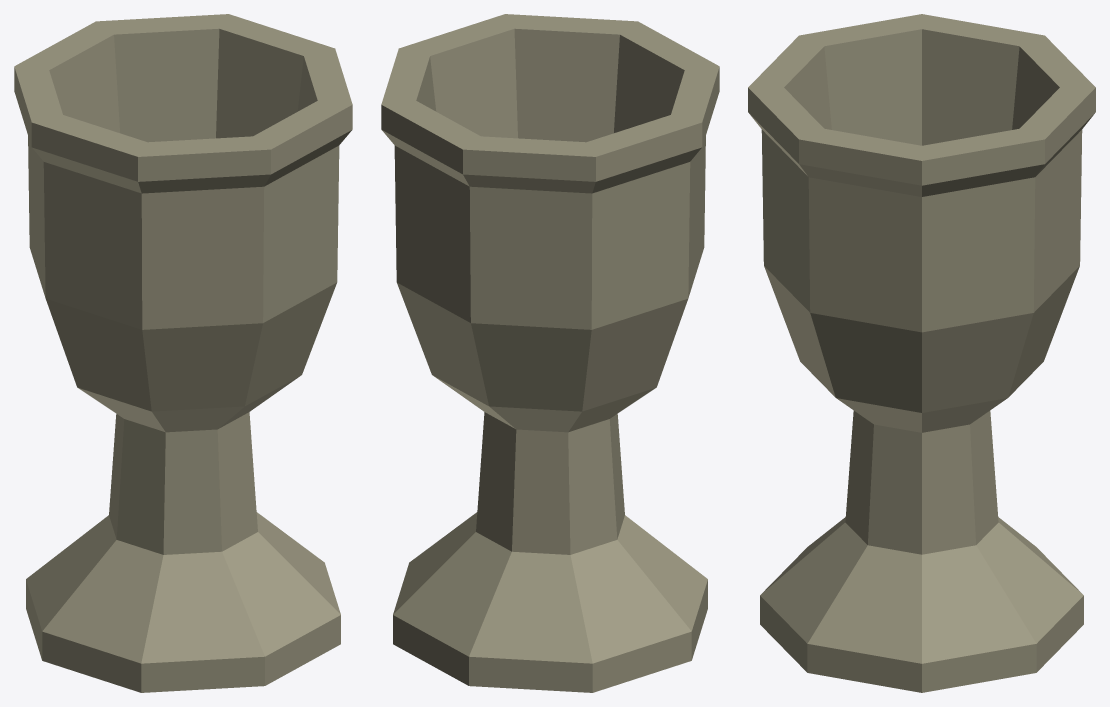
The model's file is Cup_1.fbx.
3 renders of one model, left to right at view 1: azimuth 30°, elevation 25°; view 2: azimuth 150°, elevation 25°; view 3: azimuth 270°, elevation 25°, orthographic.
Visible parts, largest first — view 1: Cup_1; view 2: Cup_1; view 3: Cup_1.
Boxes of the visible parts, <box> form: Cup_1: <box>14,14,352,692</box>; Cup_1: <box>381,14,719,692</box>; Cup_1: <box>748,14,1095,692</box>.
Size of the model in its own units: 11.19 by 19.06 by 11.19.
